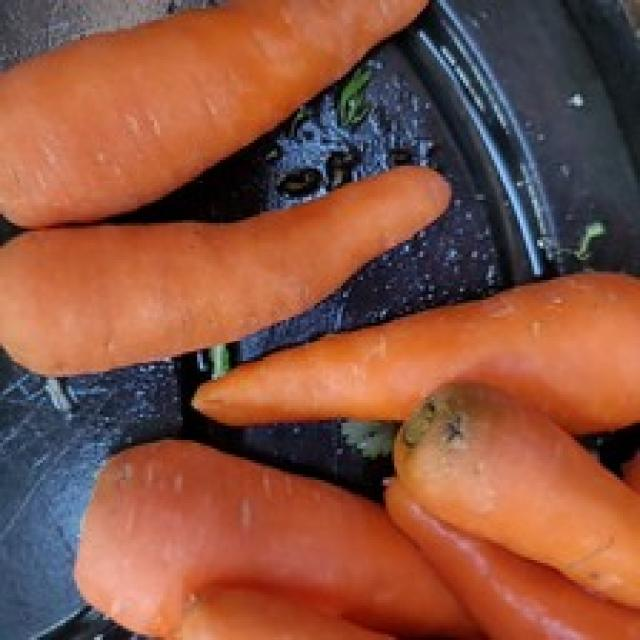Fresh_Carrot: (0, 0, 428, 214), (167, 324, 635, 417)
